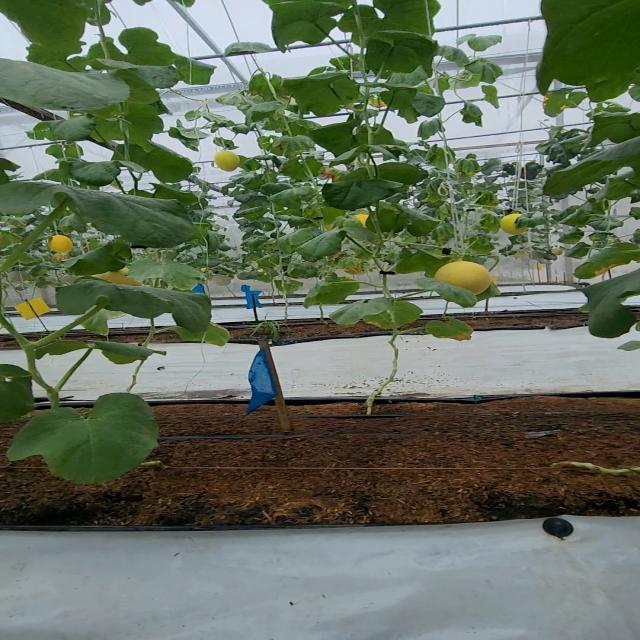Rear-melon: (437, 263, 496, 291), (53, 236, 71, 252)
